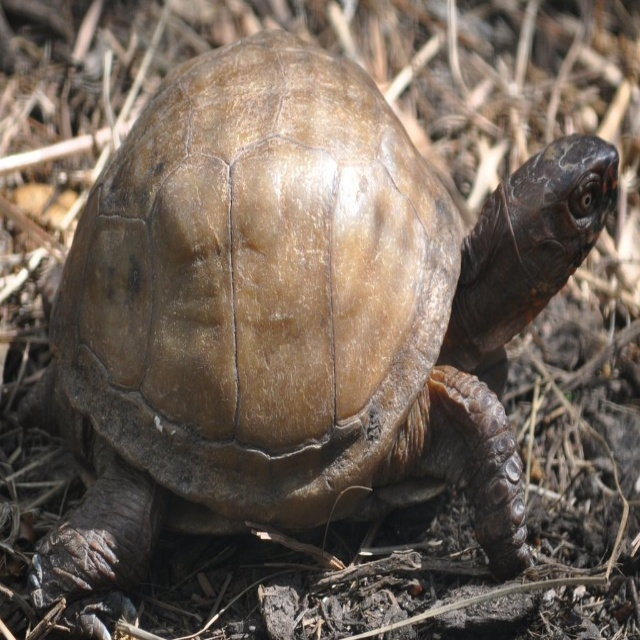Tortoise: (18, 29, 620, 610)
